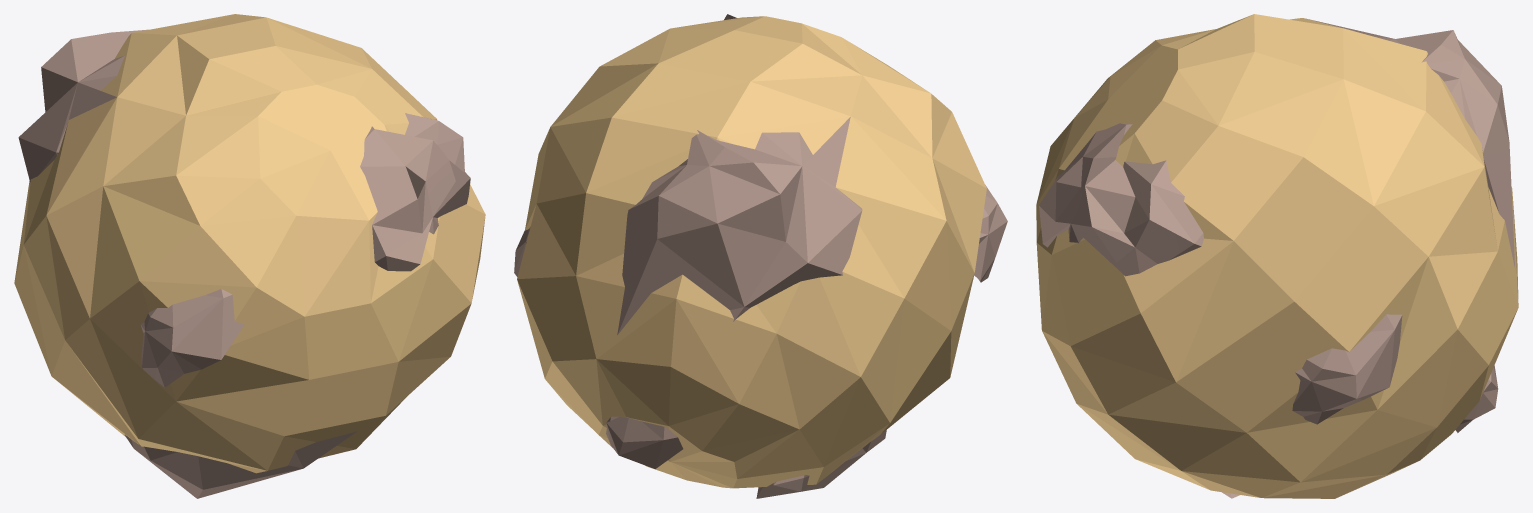
Rendered from mercury.gltf.
The picture shows the model from 3 angles, left to right: view 1: azimuth 30°, elevation 25°; view 2: azimuth 150°, elevation 25°; view 3: azimuth 270°, elevation 25°; orthographic projection. The views are drawn at different scales.
Visible parts, largest first — view 1: model, model.114, model.113, model.116, model.115; view 2: model, model.113, model.117, model.116, model.115; view 3: model, model.114, model.113, model.118, model.117.
Boxes of the visible parts, box(x1,y1,x2,y2) form: model: box(14, 14, 485, 473); model.114: box(360, 113, 470, 271); model.113: box(18, 29, 155, 182); model.116: box(140, 289, 244, 387); model.115: box(125, 431, 356, 498); model: box(517, 16, 986, 488); model.113: box(617, 117, 862, 334); model.117: box(606, 416, 683, 469); model.116: box(974, 185, 1007, 282); model.115: box(756, 430, 886, 498); model: box(1036, 14, 1518, 498); model.114: box(1039, 123, 1203, 276); model.113: box(1306, 18, 1515, 269); model.118: box(1292, 314, 1402, 424); model.117: box(1455, 365, 1498, 432).
Bounding box in the file's own units: 1.47 × 1.56 × 1.47.
